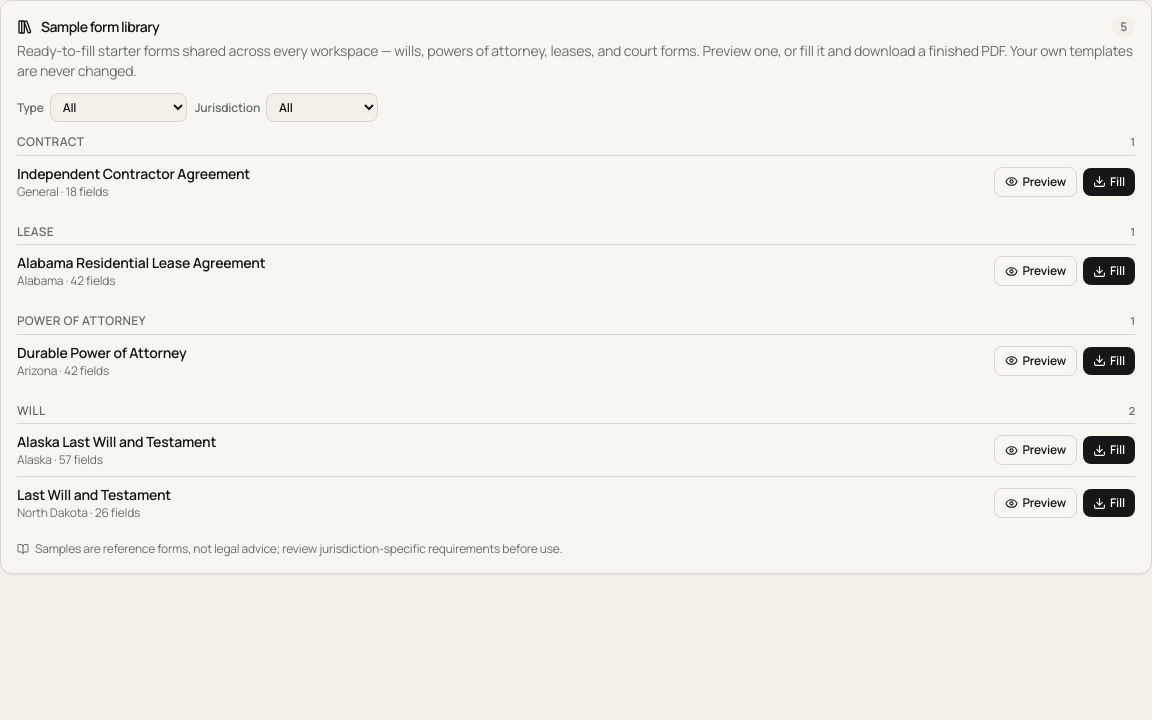
Test case: SampleLibraryCard › shows an alert when the preview cannot be opened
Check: the text "Durable Power of Attorney" is shown, box [17,342,187,362]
Click the button "Preview" in the row of "North Dakota" at (1036, 503), box [994,488,1077,518]
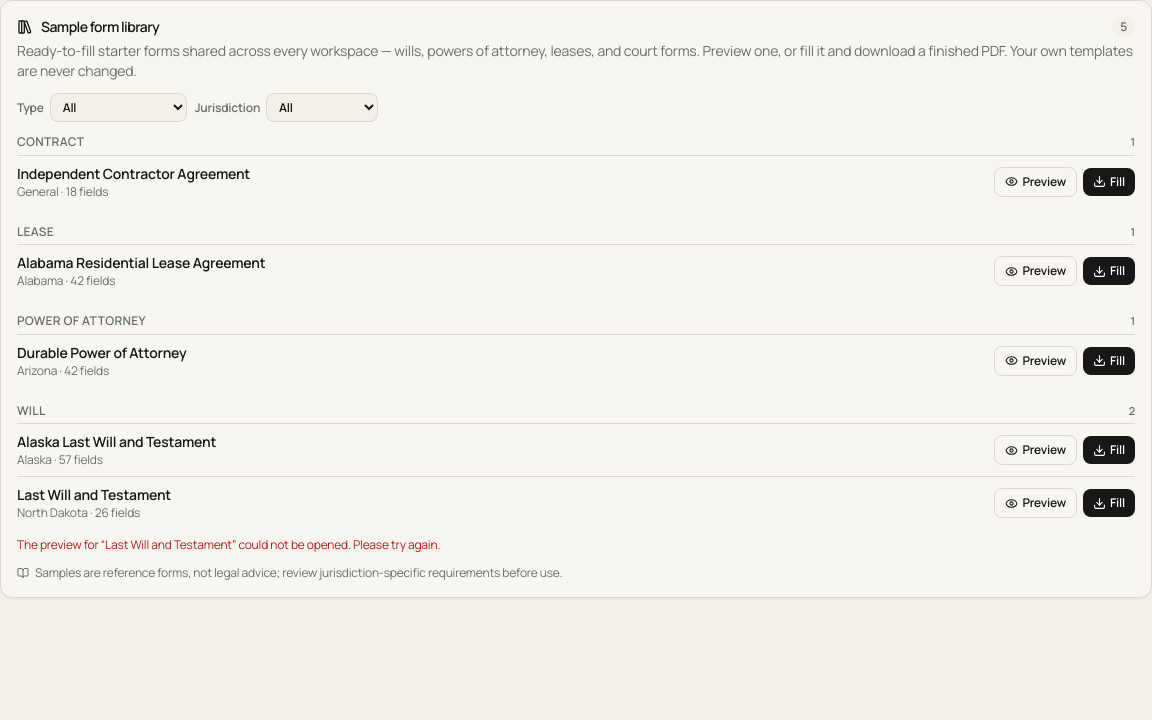
Check: the message shows "could not be opened", box [17,536,440,553]
